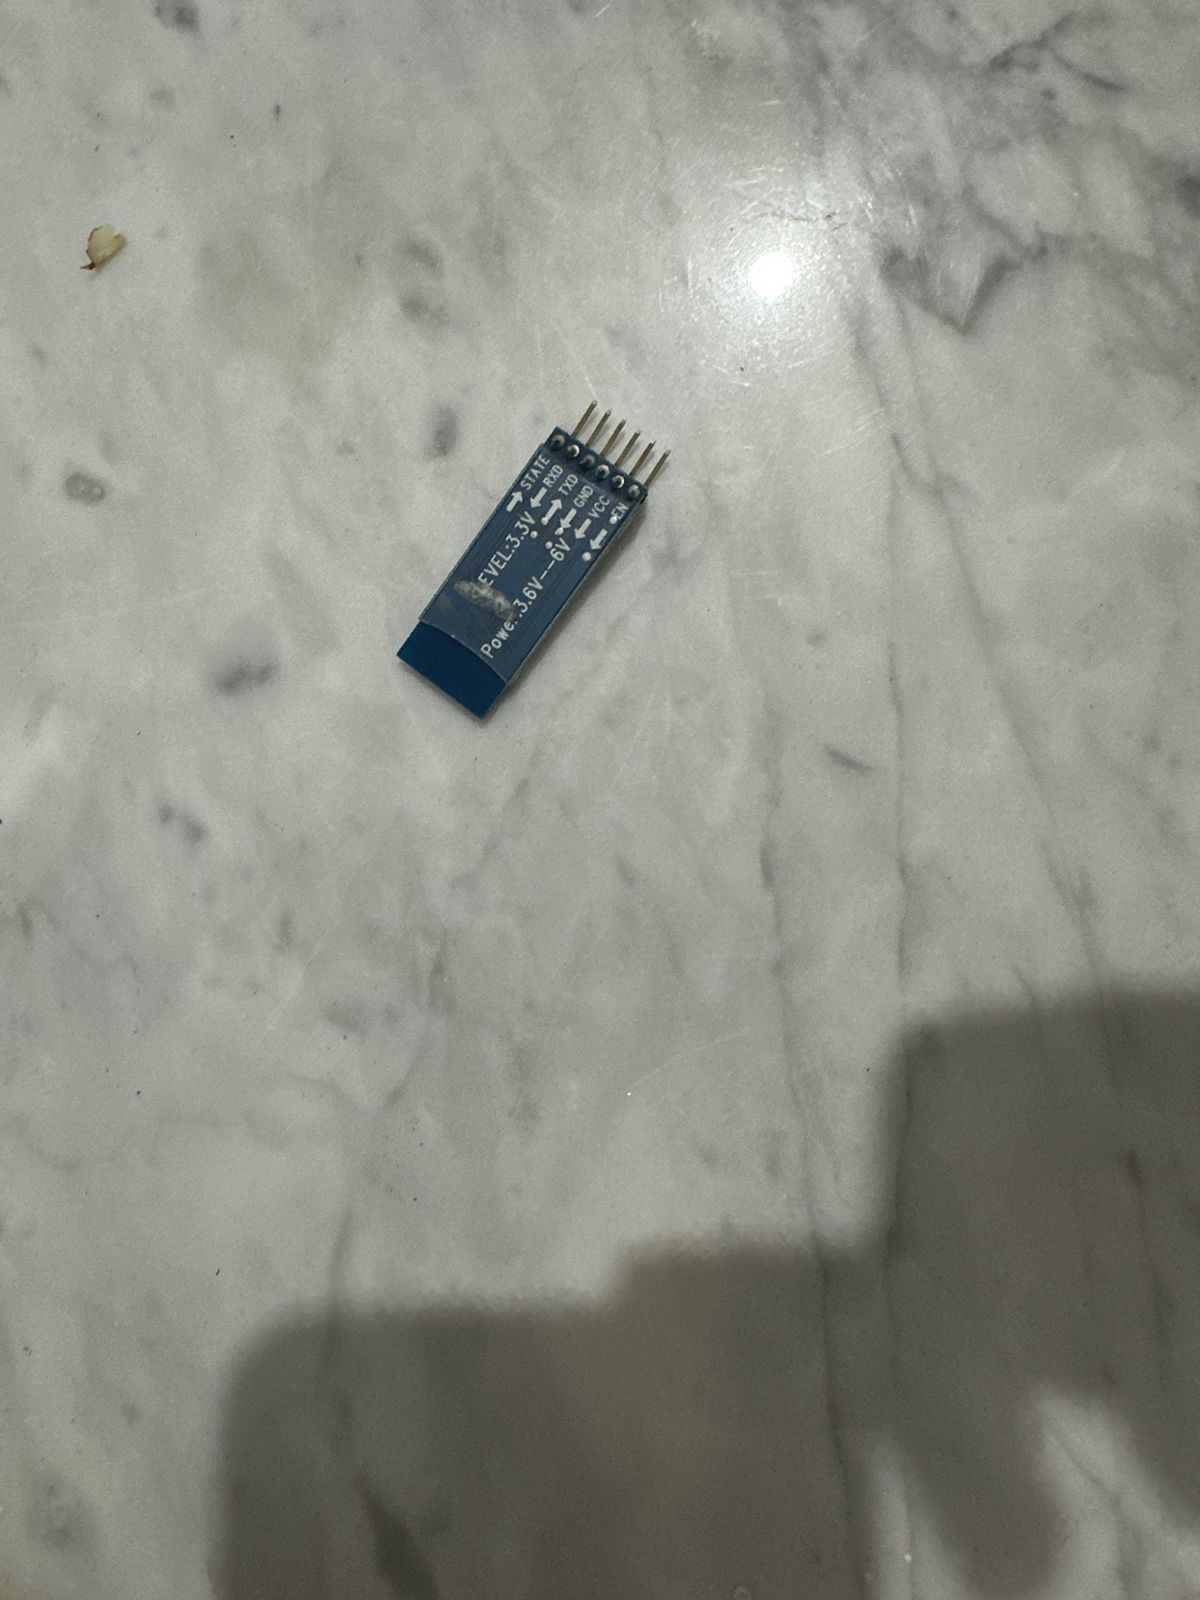module-bluetooth: (395, 398, 671, 729)
